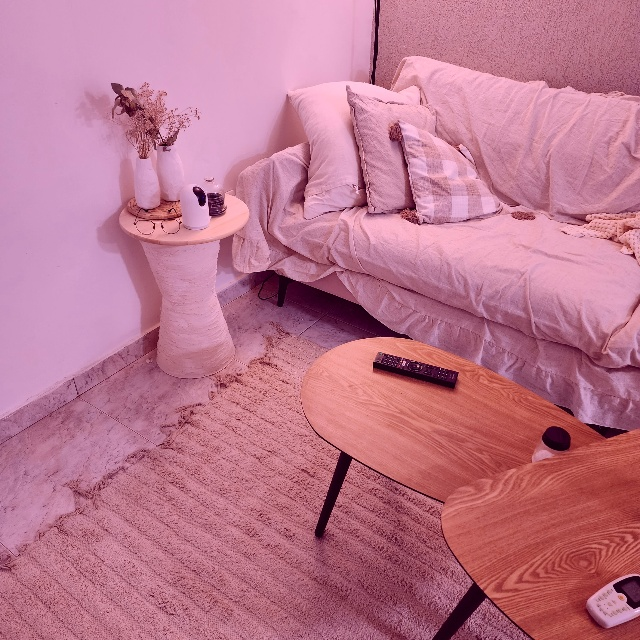glasses: (135, 208, 182, 236)
